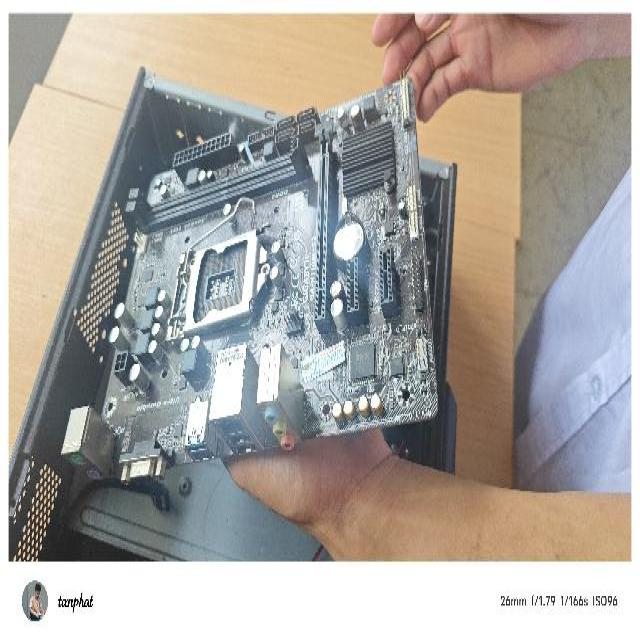Mainboard: (57, 69, 440, 483)
